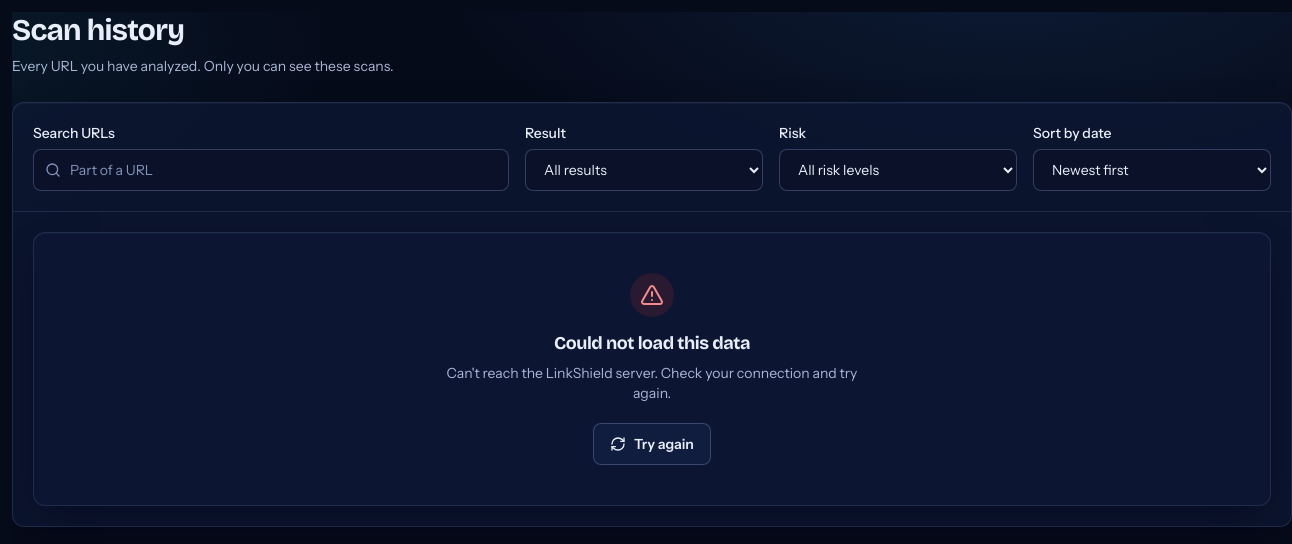
it: HistoryPage › shows an error state with a retry button when the API fails
This screenshot has width=1292, height=544.
Click the button "Try again" at (652, 444), box x1=593 y1=423 x2=711 y2=465
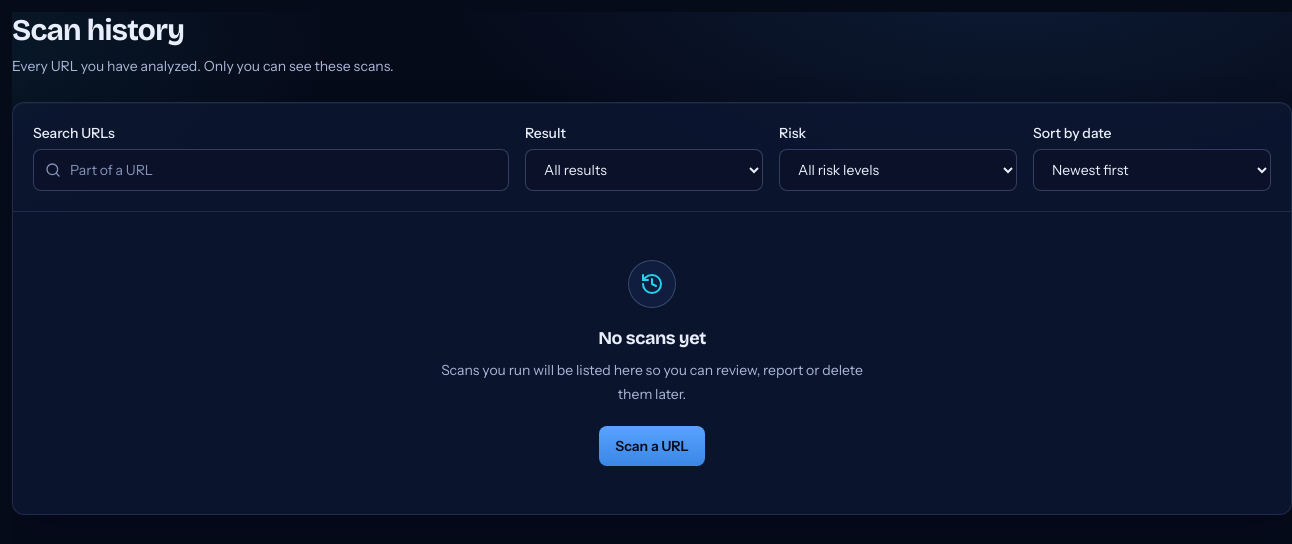
Check: the heading "No scans yet" is shown, box x1=598 y1=324 x2=706 y2=352
